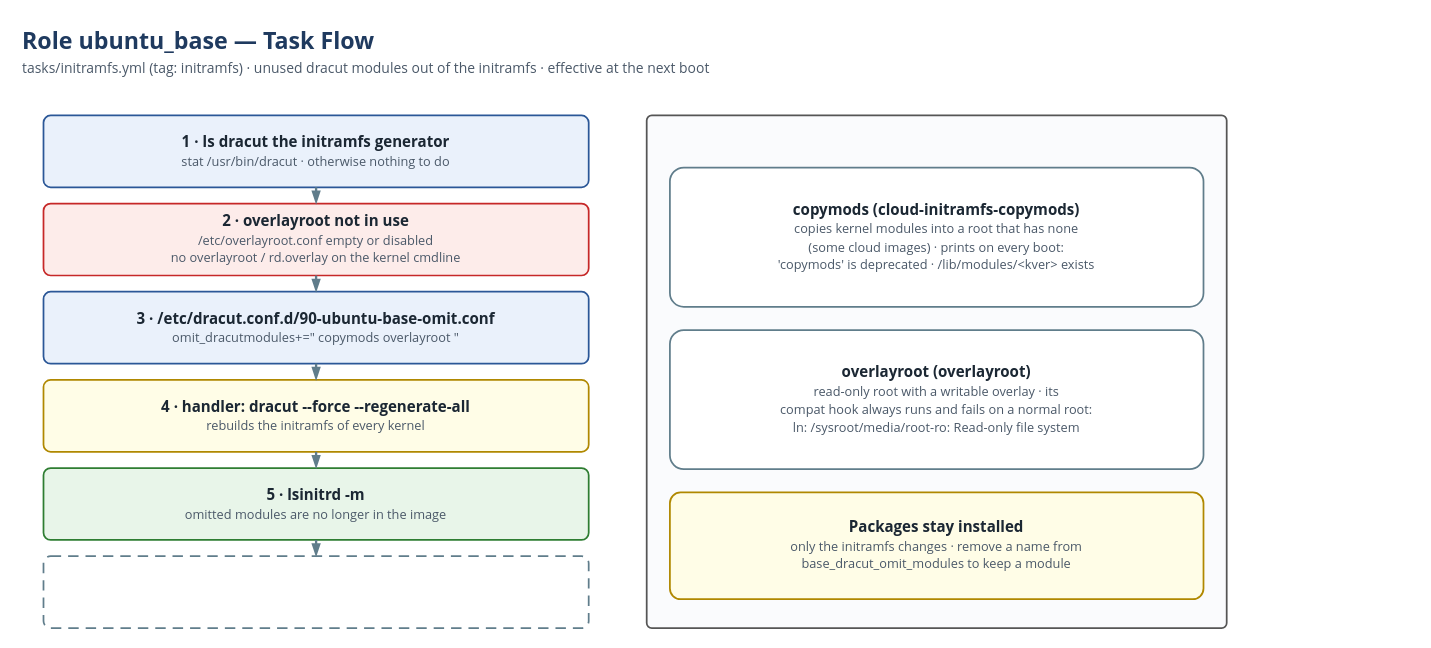
This 1431x648 diagram has some shape labels left out. The box of each missing label's shape, as (x1, y1, x2, y2) in pixels:
6 · reboot (maintenance window) or base_allow_reboot: true: (42, 555, 589, 628)
Why these modules are omitted: (645, 114, 1227, 628)
